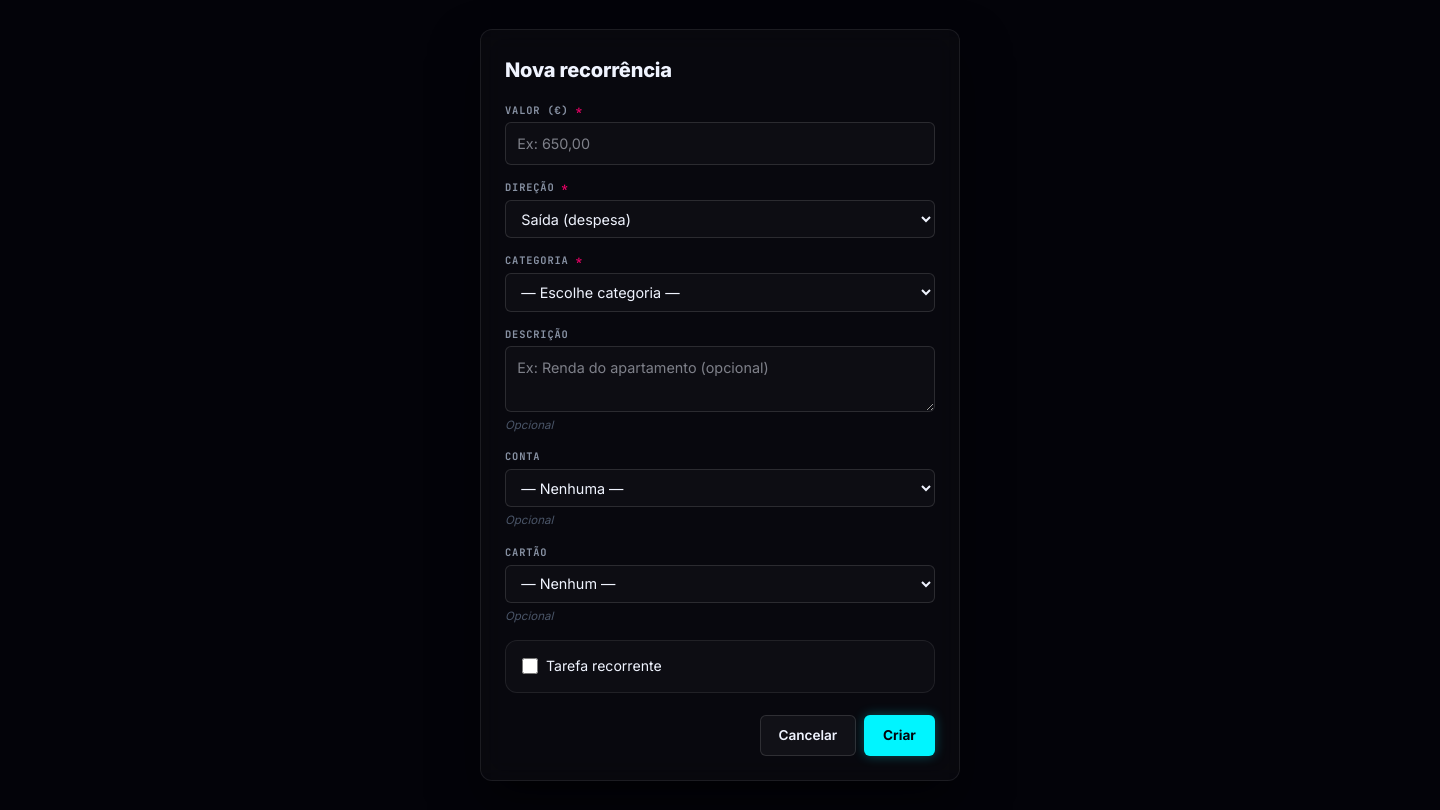
Test: FinanceRecurrenceFormModal (Story 9.1b / cobertura finanças) › caminho de erro 2 — recorrência não definida bloqueia a submissão
The image size is (1440, 810).
Type "50,00" into the field with id "finance-recurrence-amount".
click(720, 144); type("50,00")  # box [505,122,935,165]
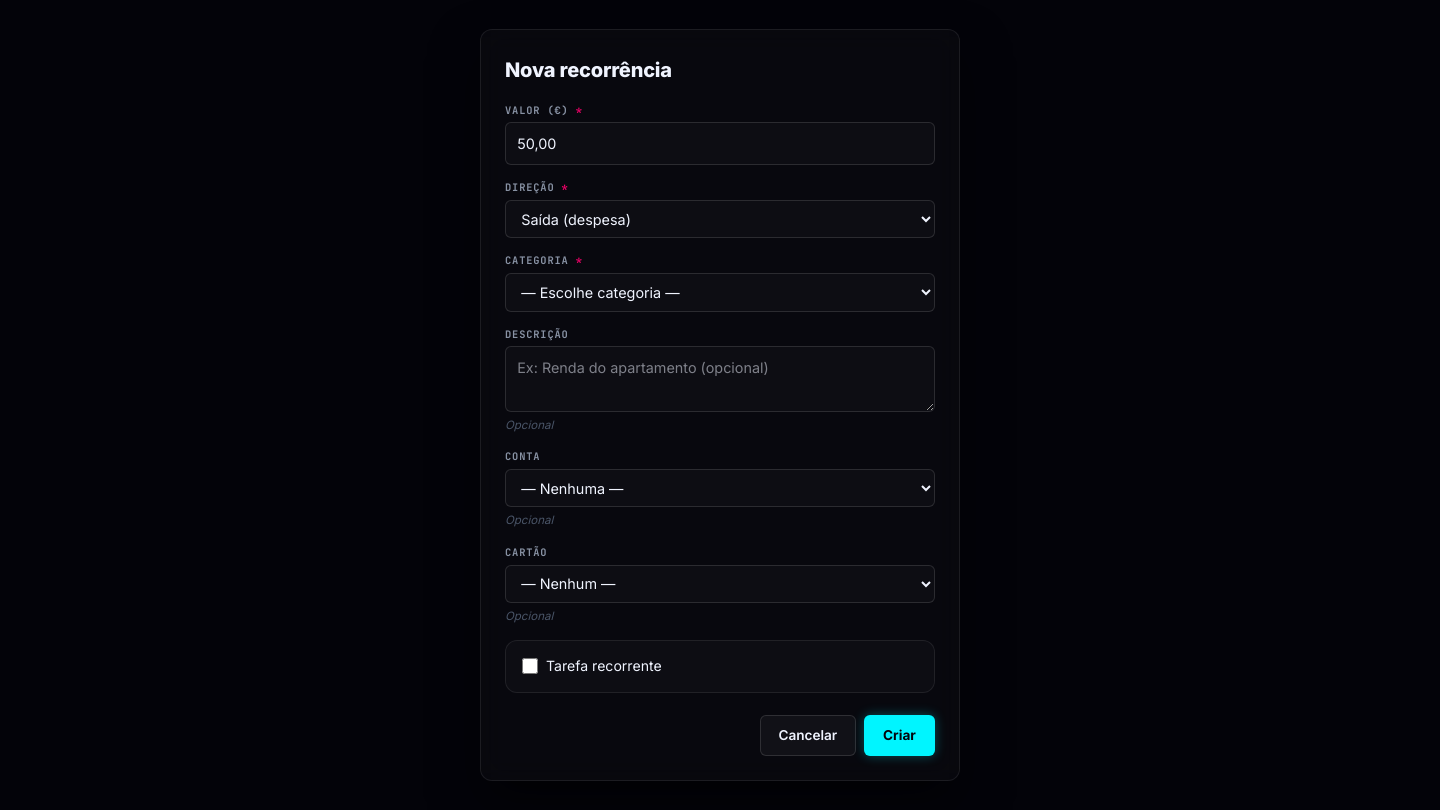
Select "Habitação" in the dropdown with id "finance-recurrence-category" at (720,292), box [505,273,935,312]
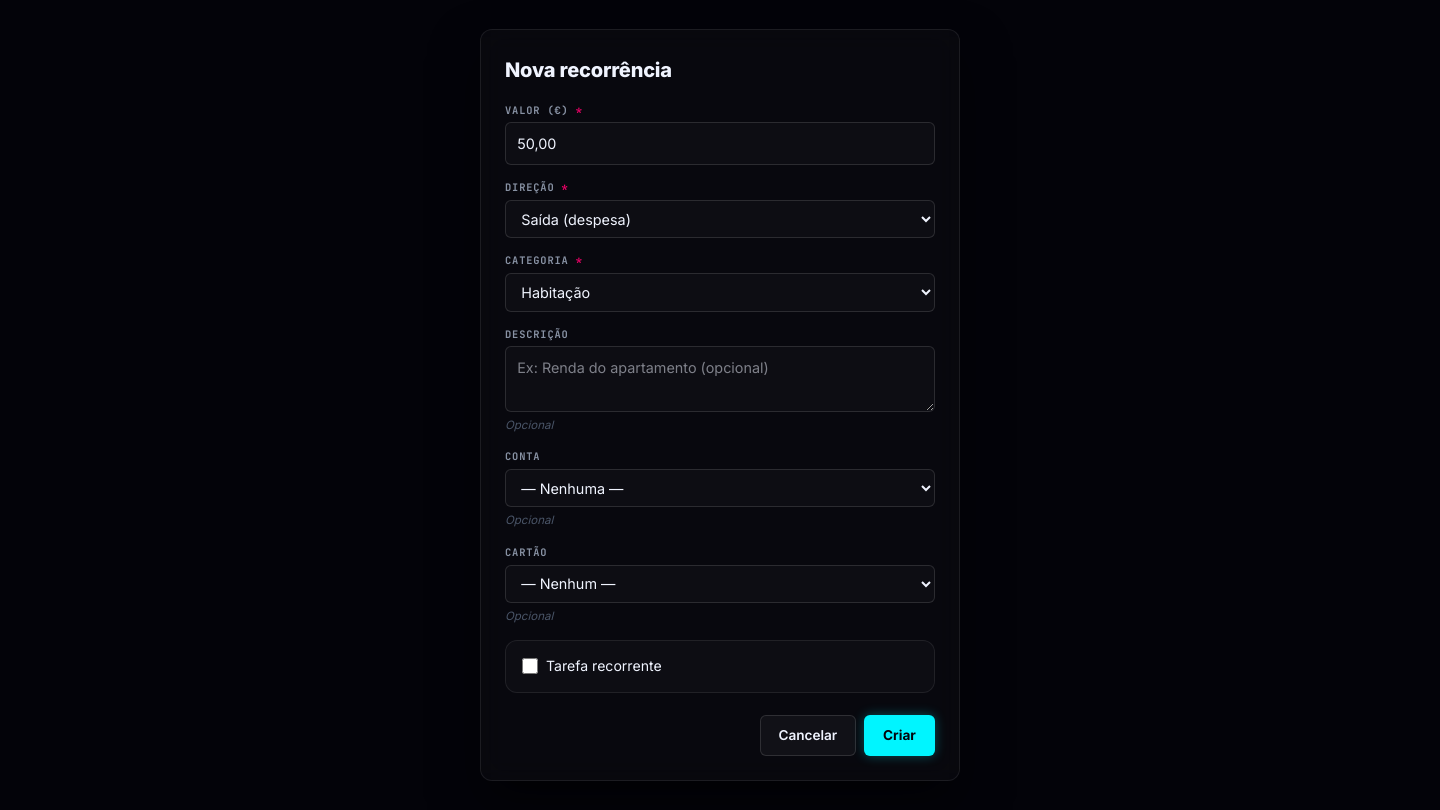
Click the button "Criar".
click(899, 735)  # box [864,715,935,756]
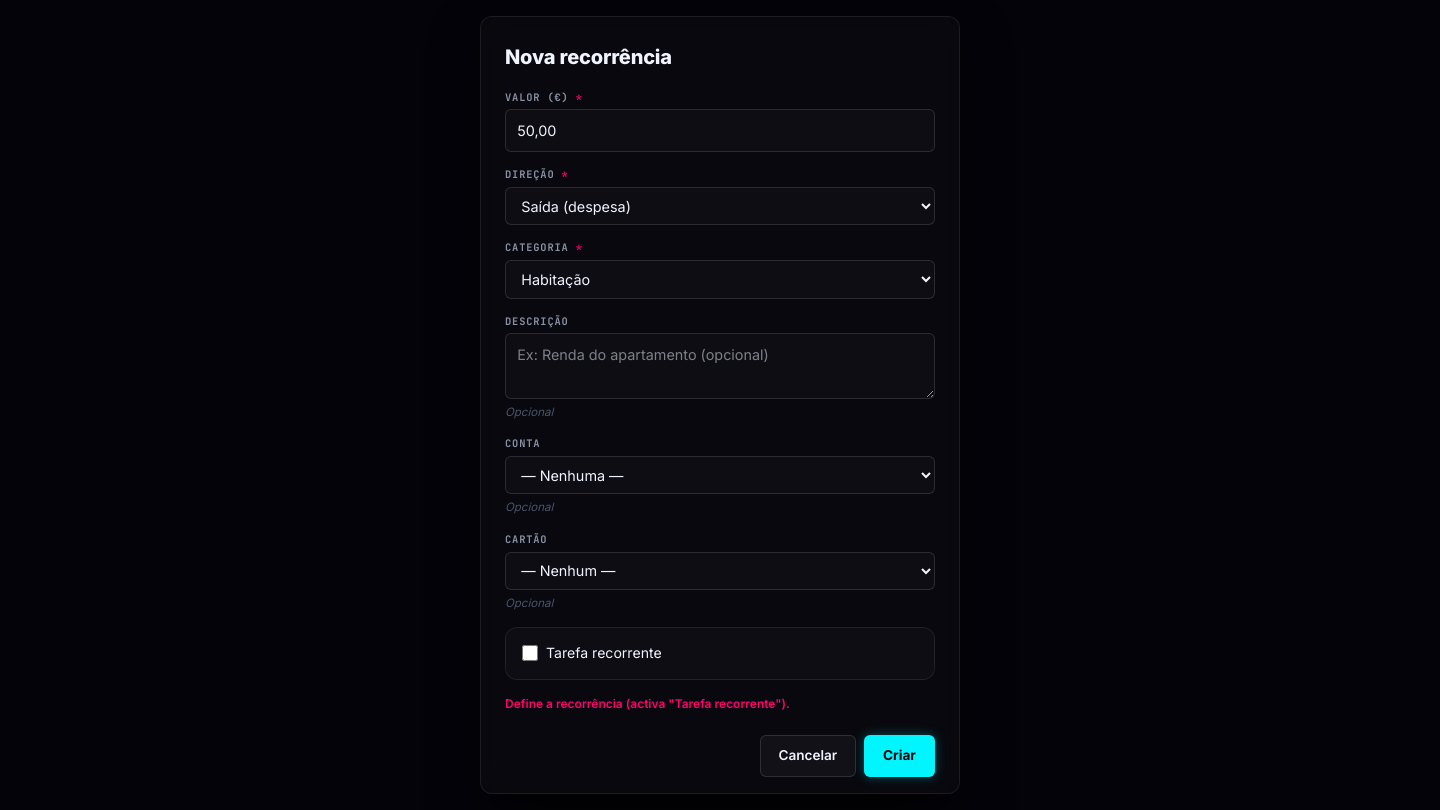
Now the text "Define a recorrência (activa \"Tarefa recorrente\")." is shown, box [505,696,790,711]
